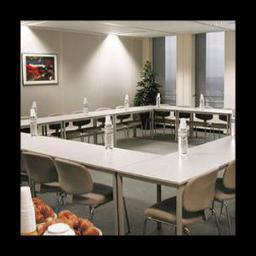Matera: (135, 63, 161, 131)
